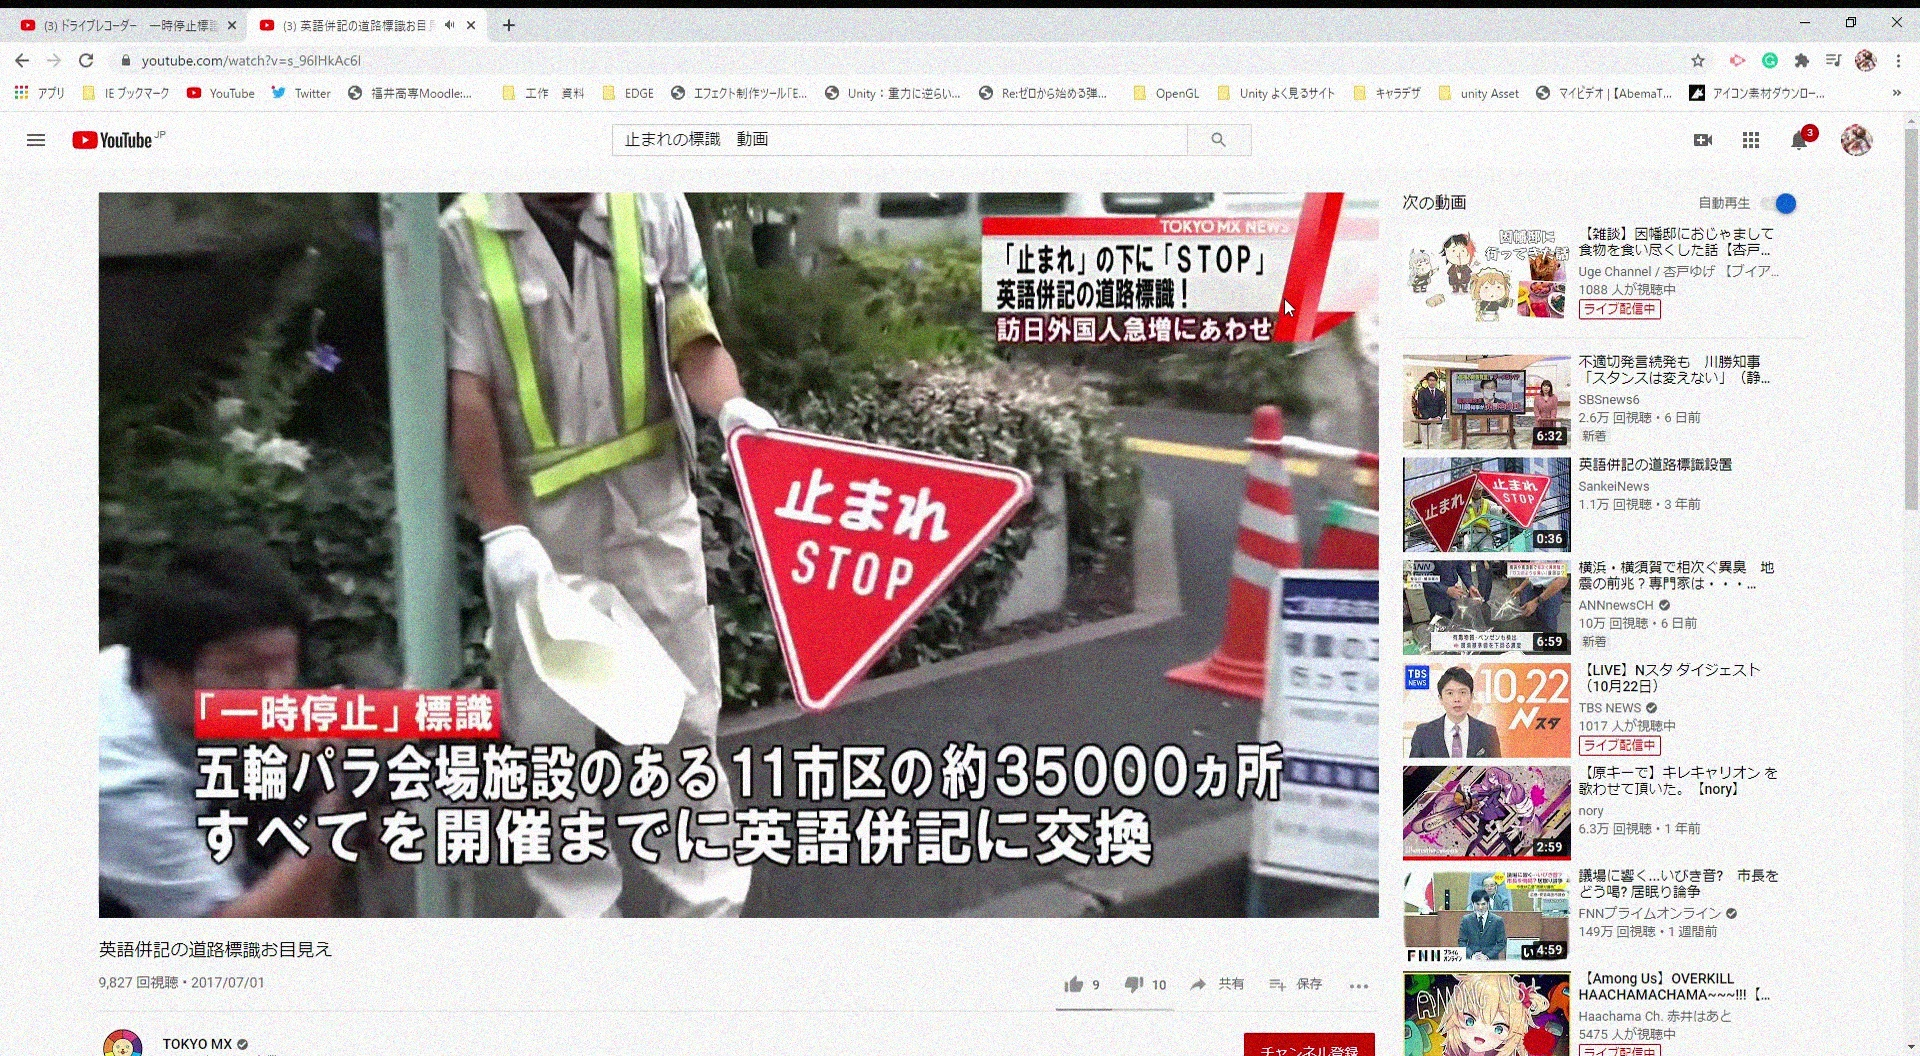Regulatory_sign_triangle: (718, 414, 1032, 744), (718, 414, 1027, 713)
